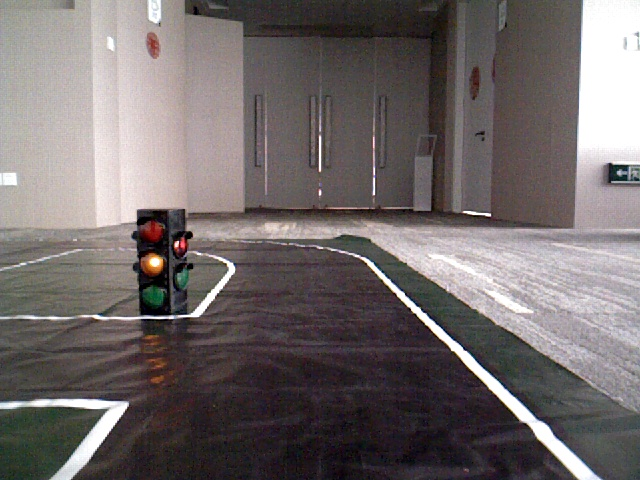yellow: (137, 212, 169, 306)
